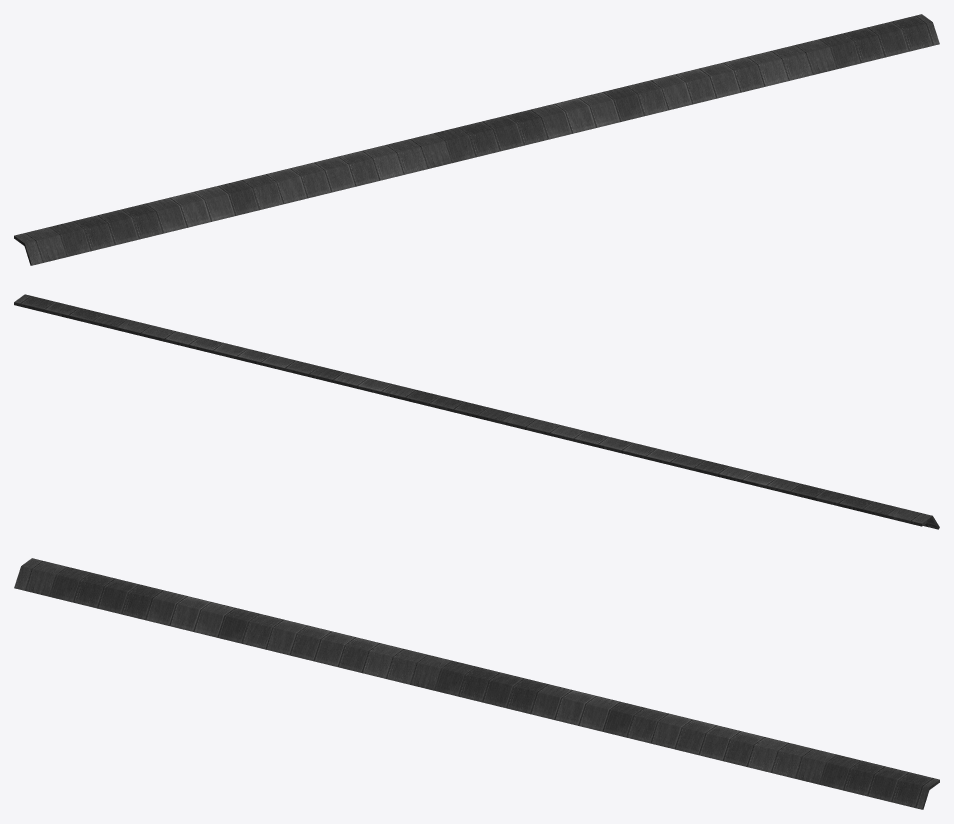
Rendered from Sm_Roof01c.glb.
3 renders of one model, top to bottom at view 1: azimuth 30°, elevation 25°; view 2: azimuth 150°, elevation 25°; view 3: azimuth 330°, elevation 25°, orthographic.
Visible parts, largest first — view 1: Sm_Roof01c; view 2: Sm_Roof01c; view 3: Sm_Roof01c.
Part boxes in pixels (left/top/right/bottom): Sm_Roof01c: left=14, top=14, right=939, bottom=265; Sm_Roof01c: left=14, top=294, right=939, bottom=529; Sm_Roof01c: left=14, top=558, right=939, bottom=809.
Size of the model in its own units: 500 by 9.49 by 17.24.
Materials: 1 (1 with a texture image).
